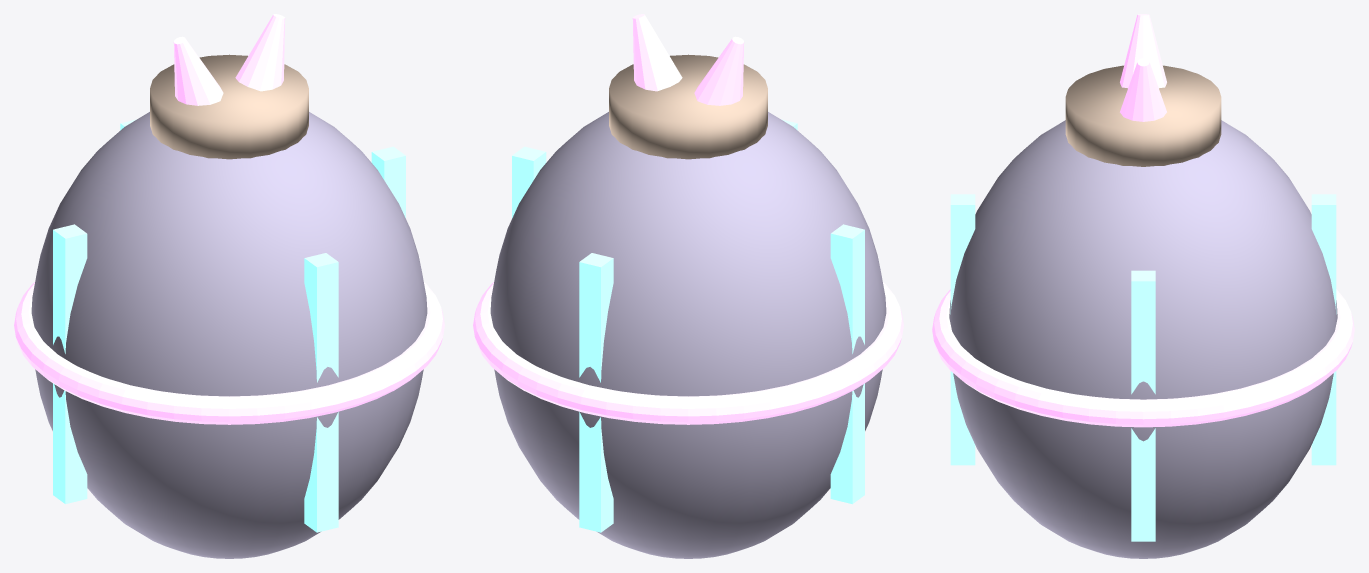
Rendered from Plasma_Sticky_Grenade.glb.
3 views of the same model, side by side, from view 1: azimuth 30°, elevation 25°; view 2: azimuth 150°, elevation 25°; view 3: azimuth 270°, elevation 25° (orthographic).
Visible parts, largest first — view 1: GEO-plasma_grenade_body, GEO-plasma_grenade_equator, GEO-plasma_grenade_cap, GEO-plasma_grenade_vent_3, GEO-plasma_grenade_vent_2, GEO-plasma_grenade_ear_1, GEO-plasma_grenade_ear_-1, GEO-plasma_grenade_vent_0; view 2: GEO-plasma_grenade_body, GEO-plasma_grenade_equator, GEO-plasma_grenade_cap, GEO-plasma_grenade_vent_1, GEO-plasma_grenade_vent_2, GEO-plasma_grenade_ear_1, GEO-plasma_grenade_ear_-1, GEO-plasma_grenade_vent_0; view 3: GEO-plasma_grenade_body, GEO-plasma_grenade_equator, GEO-plasma_grenade_cap, GEO-plasma_grenade_vent_0, GEO-plasma_grenade_vent_1, GEO-plasma_grenade_vent_3, GEO-plasma_grenade_ear_1, GEO-plasma_grenade_ear_-1.
Boxes of the visible parts, x1,y1,x2,y2 form: GEO-plasma_grenade_body: (31, 112, 427, 558); GEO-plasma_grenade_equator: (14, 282, 444, 424); GEO-plasma_grenade_cap: (150, 54, 308, 159); GEO-plasma_grenade_vent_3: (304, 253, 338, 532); GEO-plasma_grenade_vent_2: (53, 224, 87, 504); GEO-plasma_grenade_ear_1: (235, 14, 285, 91); GEO-plasma_grenade_ear_-1: (173, 36, 223, 105); GEO-plasma_grenade_vent_0: (371, 146, 405, 218); GEO-plasma_grenade_body: (490, 112, 886, 558); GEO-plasma_grenade_equator: (473, 282, 903, 424); GEO-plasma_grenade_cap: (609, 54, 767, 159); GEO-plasma_grenade_vent_1: (579, 253, 613, 532); GEO-plasma_grenade_vent_2: (830, 224, 864, 504); GEO-plasma_grenade_ear_1: (632, 14, 682, 91); GEO-plasma_grenade_ear_-1: (694, 36, 744, 105); GEO-plasma_grenade_vent_0: (512, 146, 546, 218); GEO-plasma_grenade_body: (949, 120, 1337, 558); GEO-plasma_grenade_equator: (932, 289, 1354, 427); GEO-plasma_grenade_cap: (1065, 65, 1221, 166); GEO-plasma_grenade_vent_0: (1131, 270, 1155, 541); GEO-plasma_grenade_vent_1: (1311, 194, 1336, 465); GEO-plasma_grenade_vent_3: (950, 194, 975, 465); GEO-plasma_grenade_ear_1: (1120, 58, 1166, 121); GEO-plasma_grenade_ear_-1: (1120, 14, 1166, 88).
Size of the model in its own units: 0.206 by 0.2726 by 0.206.
